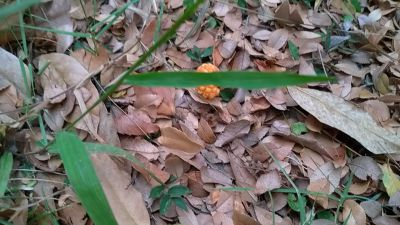eggs: (192, 61, 225, 99)
